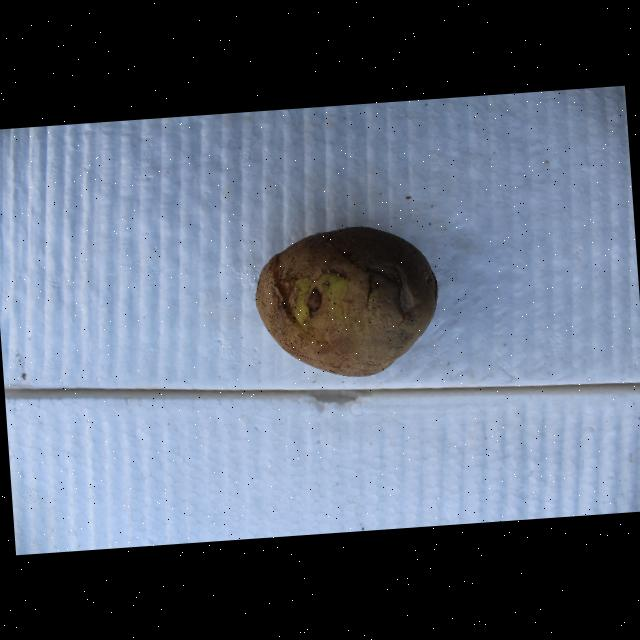Diseased-fungal potato: (251, 218, 445, 386)
